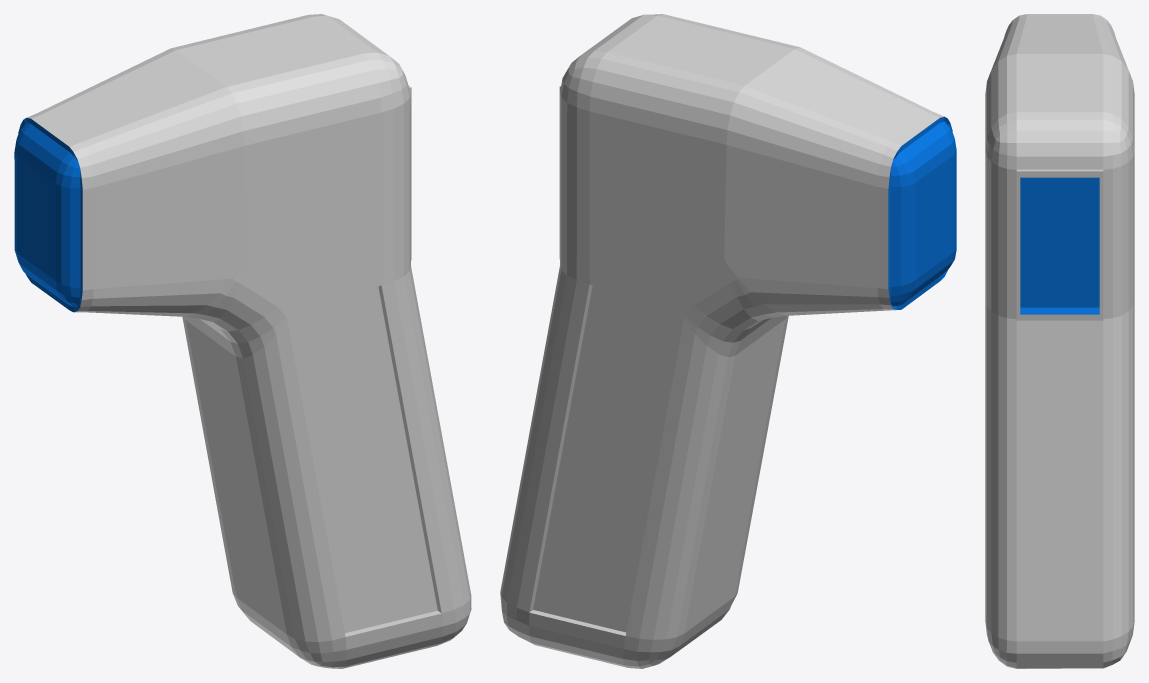
File: ateşölçerv2.fbx
3 renders of one model, left to right at view 1: azimuth 30°, elevation 25°; view 2: azimuth 150°, elevation 25°; view 3: azimuth 270°, elevation 25°, orthographic. The views are drawn at different scales.
Parts seen in each view (by area): view 1: Cube; view 2: Cube; view 3: Cube.
Boxes of the visible parts, x1,y1,x2,y2 form: Cube: (14,14,471,668); Cube: (500,14,956,668); Cube: (985,14,1134,668).
Bounding box in the file's own units: 390 × 555 × 143.
